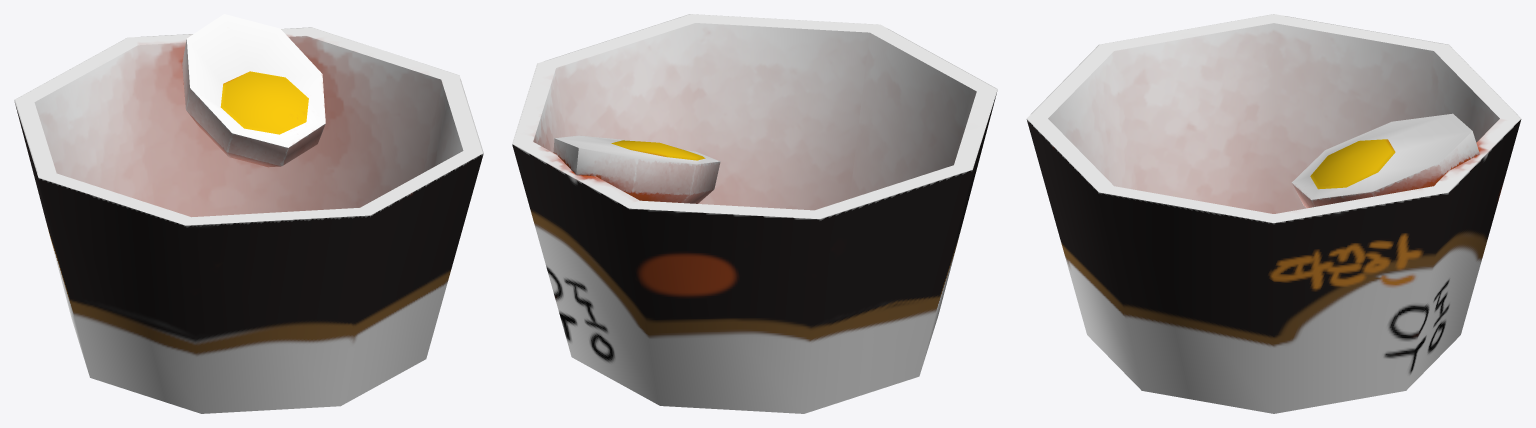
The model's file is ramen_3.fbx.
The picture shows the model from 3 angles, left to right: view 1: azimuth 30°, elevation 25°; view 2: azimuth 150°, elevation 25°; view 3: azimuth 270°, elevation 25°; orthographic projection. The views are drawn at different scales.
Parts seen in each view (by area): view 1: Cylinder.003; view 2: Cylinder.003; view 3: Cylinder.003.
Part boxes in pixels (<box>): Cylinder.003: <box>14,14,483,413</box>; Cylinder.003: <box>512,14,997,413</box>; Cylinder.003: <box>1026,14,1521,413</box>.
Size of the model in its own units: 14.05 by 7.52 by 14.05.
